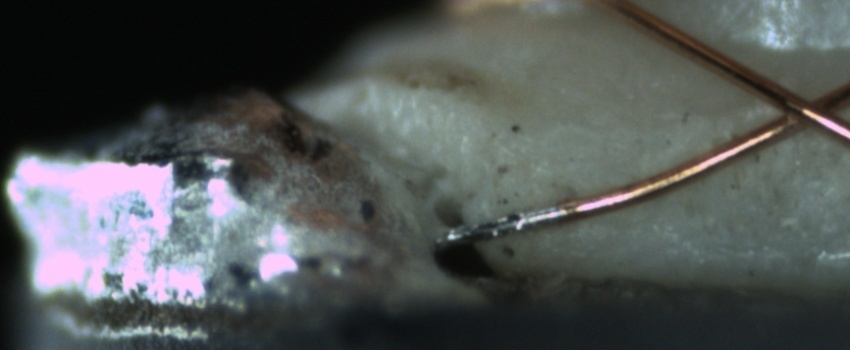CL: (750, 76, 848, 144)
TS: (431, 201, 566, 248)
